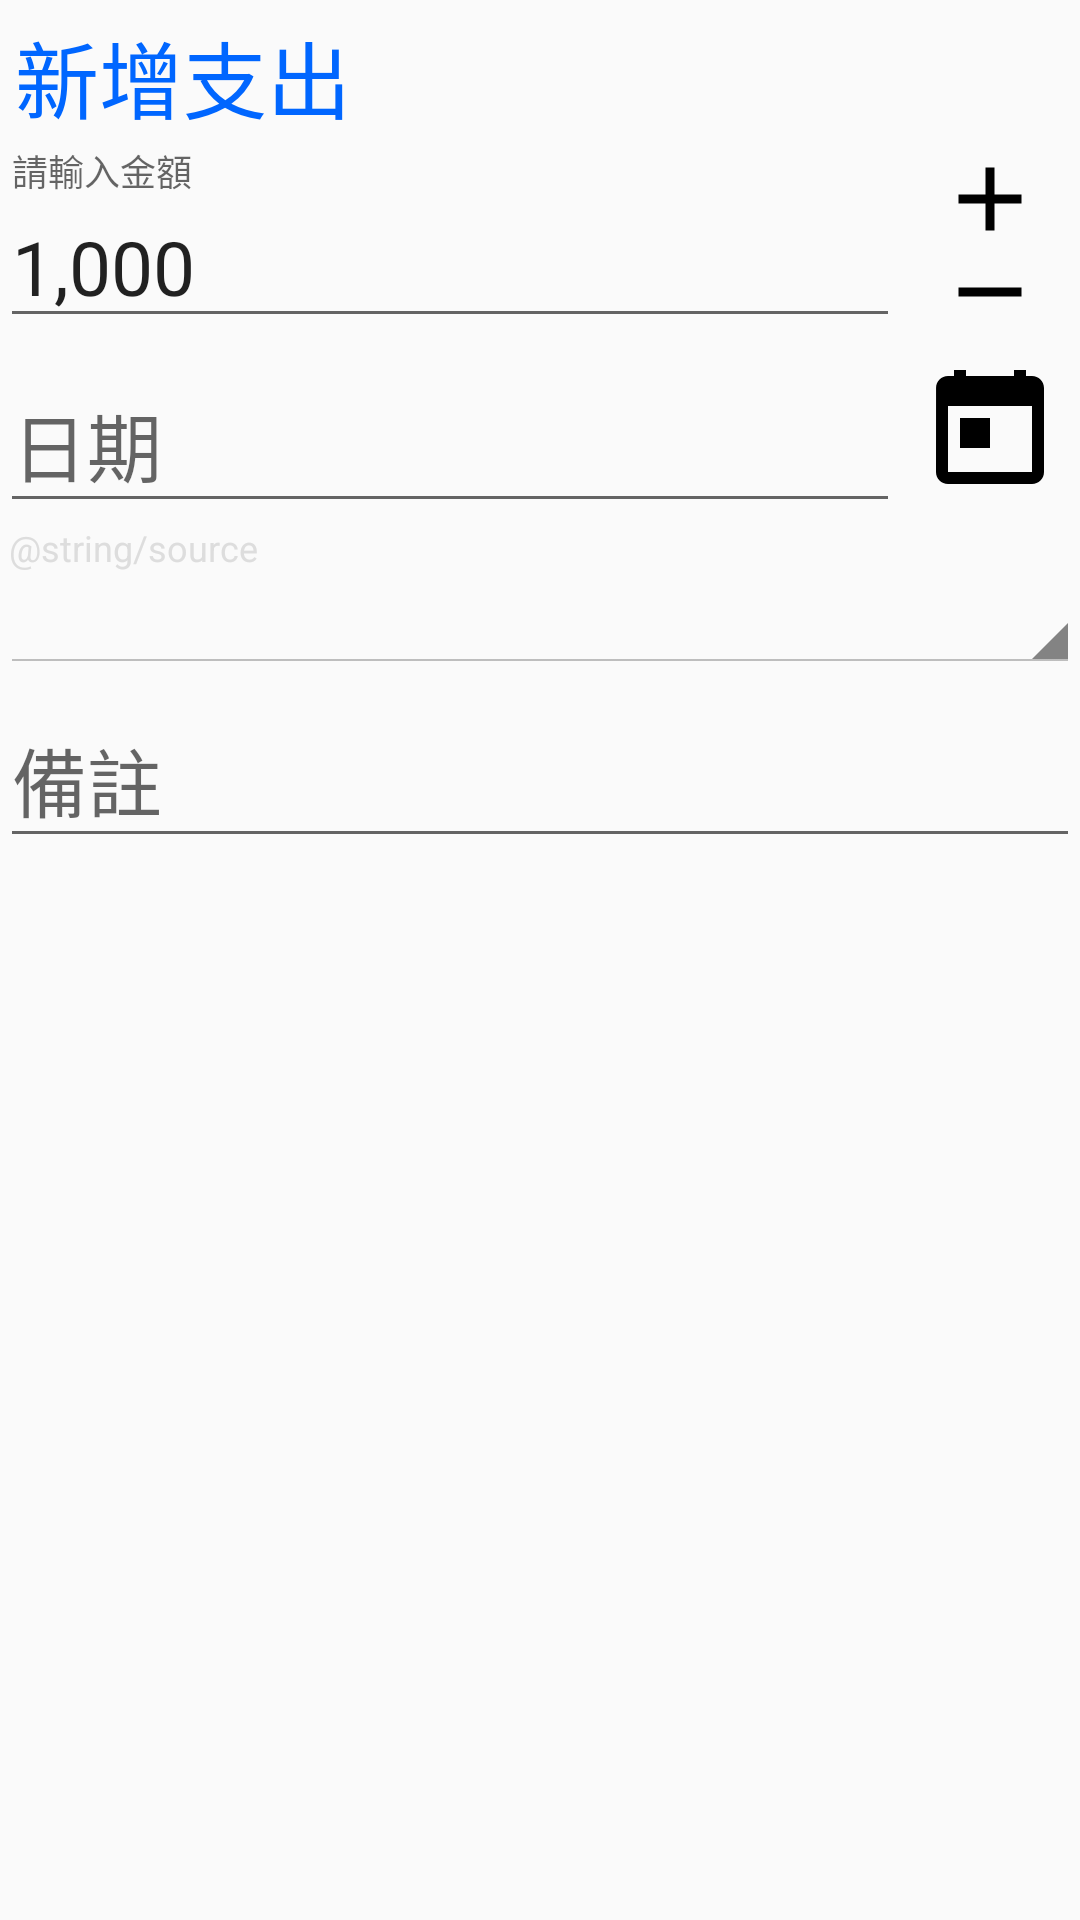

Where icons sit on this 1080*1920 app screen, as bbox=[x1, y1, x2, y2]:
add: bbox=[958, 167, 1022, 231]
today: bbox=[936, 370, 1044, 484]
